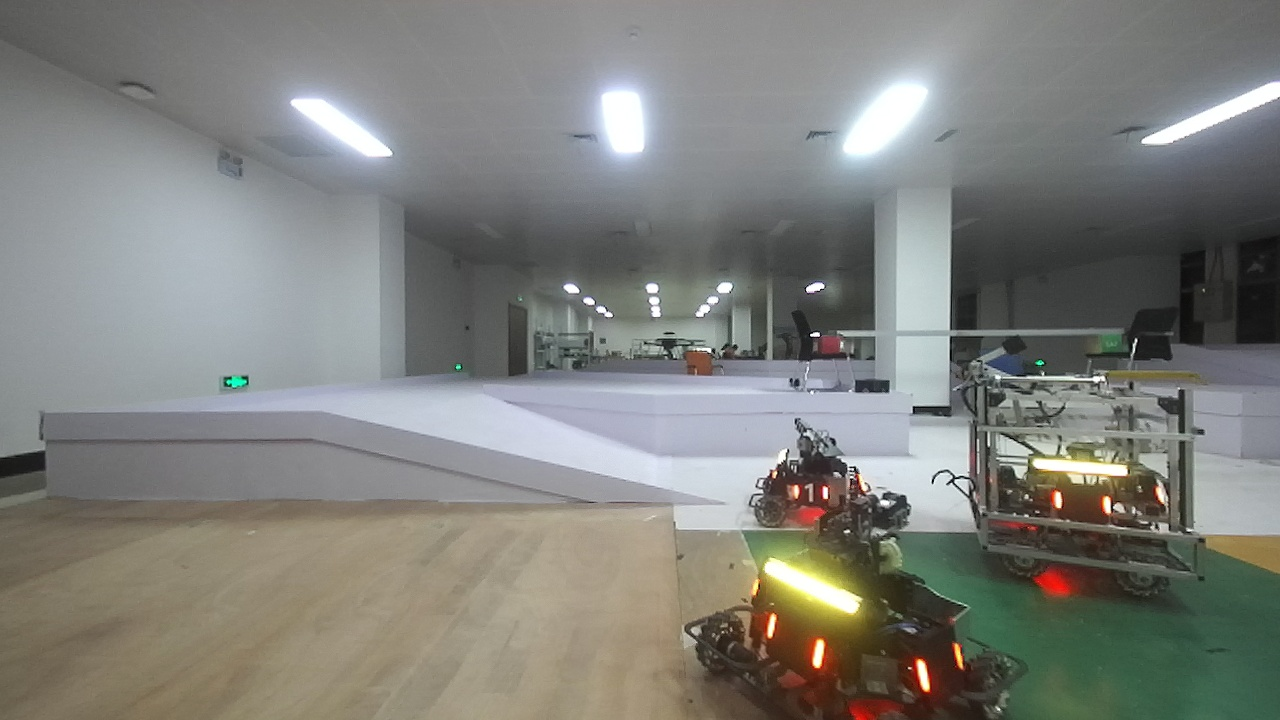car: (935, 346, 1229, 613), (680, 522, 1029, 713), (741, 410, 885, 531)
